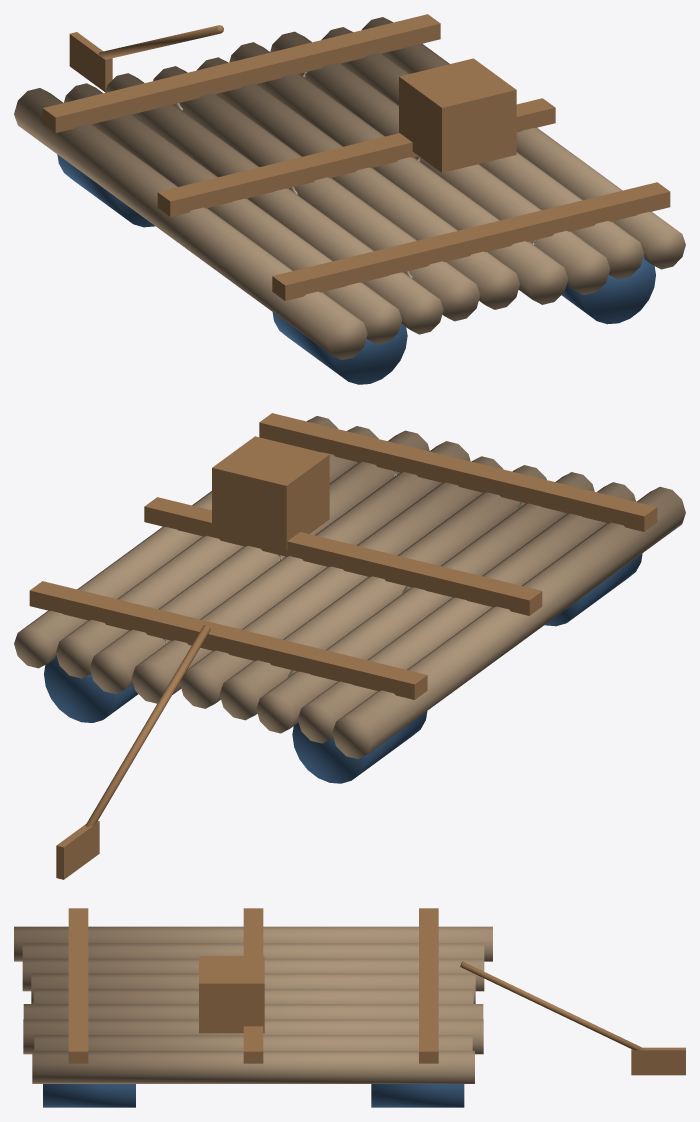
The model's file is raft.glb.
3 renders of one model, top to bottom at view 1: azimuth 30°, elevation 25°; view 2: azimuth 150°, elevation 25°; view 3: azimuth 270°, elevation 25°, orthographic. The views are drawn at different scales.
Parts seen in each view (by area): view 1: Log, Beam.002, Beam, Crate, Log.005, Log.002, Log.003, Log.001, Log.004, Log.006, Beam.001, Log.008 (+6 smaller); view 2: Log, Beam, Beam.002, Crate, Log.002, Log.003, Log.005, Log.001, Log.004, Beam.001, Log.006, Log.007 (+6 smaller); view 3: Log.008, Log, Log.001, Log.006, Log.007, Log.002, Log.005, Log.003, Log.004, Crate, Beam, Beam.002 (+5 smaller).
Boxes of the visible parts, x1=… form: Log: x1=14, y1=88, x2=367, y2=360; Beam.002: x1=42, y1=14, x2=440, y2=132; Beam: x1=272, y1=182, x2=670, y2=300; Crate: x1=399, y1=58, x2=516, y2=172; Log.005: x1=229, y1=42, x2=568, y2=304; Log.002: x1=105, y1=73, x2=443, y2=334; Log.003: x1=153, y1=66, x2=480, y2=321; Log.001: x1=64, y1=83, x2=402, y2=344; Log.004: x1=196, y1=57, x2=519, y2=309; Log.006: x1=270, y1=31, x2=609, y2=295; Beam.001: x1=157, y1=98, x2=555, y2=216; Log.008: x1=362, y1=17, x2=685, y2=269; Log: x1=332, y1=487, x2=685, y2=758; Beam: x1=259, y1=413, x2=657, y2=531; Beam.002: x1=29, y1=581, x2=427, y2=699; Crate: x1=212, y1=436, x2=329, y2=550; Log.002: x1=256, y1=472, x2=594, y2=733; Log.003: x1=219, y1=465, x2=546, y2=720; Log.005: x1=131, y1=441, x2=470, y2=703; Log.001: x1=298, y1=482, x2=635, y2=743; Log.004: x1=180, y1=456, x2=503, y2=708; Beam.001: x1=144, y1=497, x2=542, y2=615; Log.006: x1=90, y1=430, x2=429, y2=693; Log.007: x1=56, y1=426, x2=378, y2=678; Log.008: x1=32, y1=1051, x2=474, y2=1083; Log: x1=14, y1=926, x2=492, y2=961; Log.001: x1=22, y1=943, x2=484, y2=958; Log.006: x1=23, y1=1019, x2=483, y2=1054; Log.007: x1=34, y1=1035, x2=472, y2=1050; Log.002: x1=22, y1=958, x2=484, y2=991; Log.005: x1=23, y1=1004, x2=483, y2=1019; Log.003: x1=31, y1=973, x2=475, y2=1003; Log.004: x1=33, y1=989, x2=473, y2=1003; Crate: x1=199, y1=956, x2=264, y2=1033; Beam: x1=68, y1=908, x2=88, y2=1063; Beam.002: x1=419, y1=908, x2=438, y2=1063.
Bounding box in the file's own units: 3.1 × 1.38 × 6.14.
